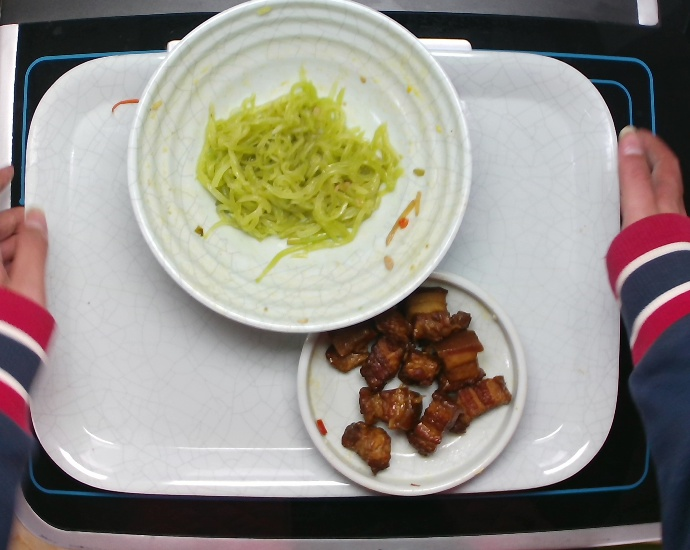JYsf-Da_Tang_Wan: (123, 8, 476, 339)
JYsf-Xiao_Yuan_Pan: (290, 264, 530, 497)
